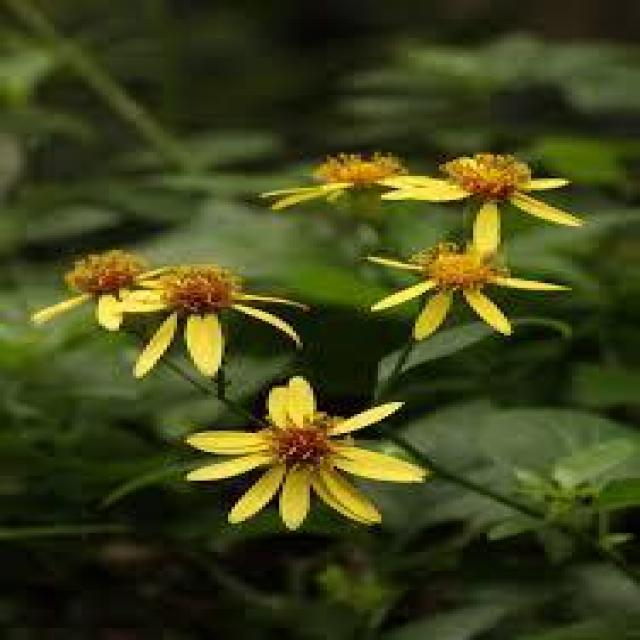organic waste: (170, 375, 422, 534), (110, 254, 328, 386), (371, 228, 572, 342), (376, 148, 587, 242), (22, 239, 189, 334), (240, 142, 454, 206)
